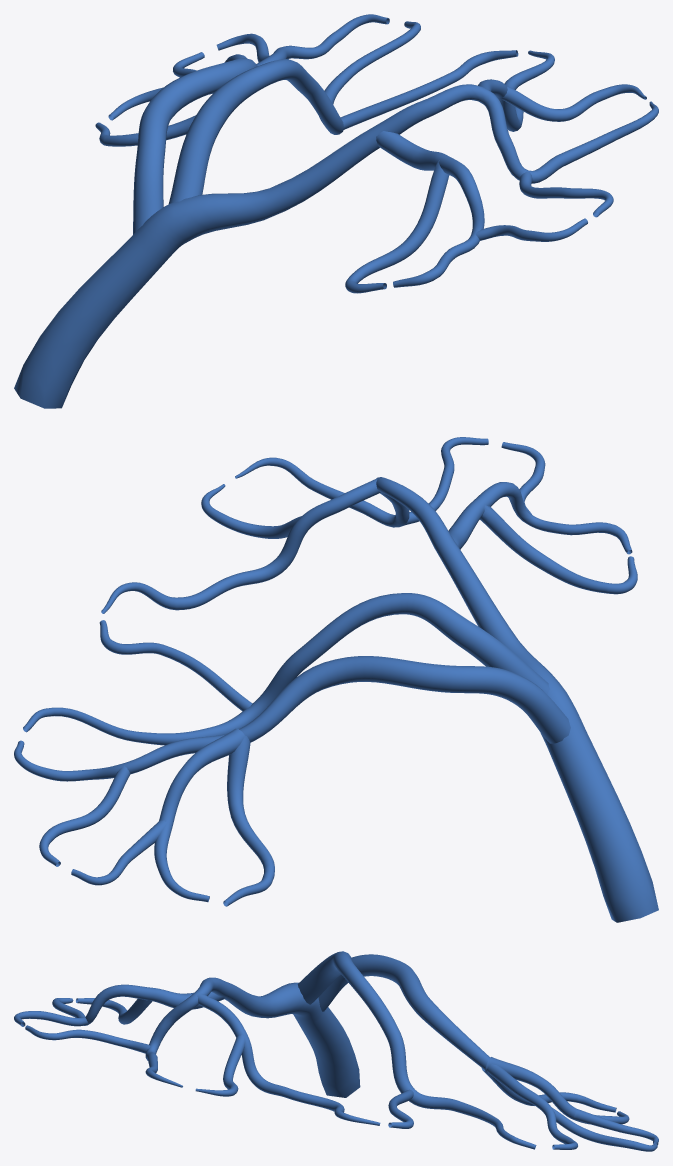
3 renders of one model, top to bottom at view 1: azimuth 30°, elevation 25°; view 2: azimuth 150°, elevation 25°; view 3: azimuth 270°, elevation 25°, orthographic. The views are drawn at different scales.
Visible parts, largest first — view 1: 左肾内静脉; view 2: 左肾内静脉; view 3: 左肾内静脉.
Part boxes in pixels (<box>): 左肾内静脉: <box>14,14,658,408</box>; 左肾内静脉: <box>14,437,658,922</box>; 左肾内静脉: <box>14,951,658,1151</box>.
Size of the model in its own units: 0.0853 by 0.0454 by 0.1139.
